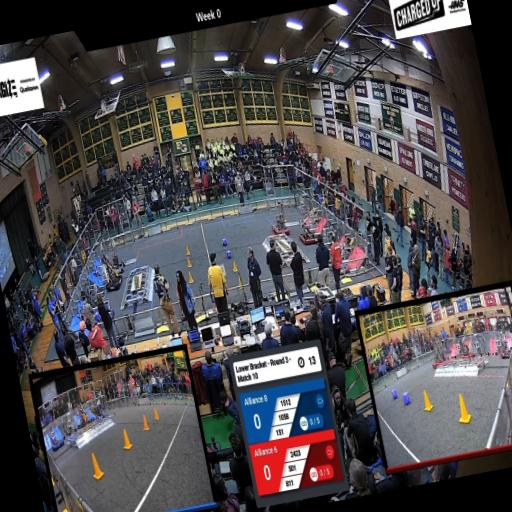robot: (89, 288, 118, 330), (266, 200, 294, 238), (98, 258, 125, 294), (328, 240, 353, 278), (296, 214, 320, 248), (104, 242, 127, 276)
